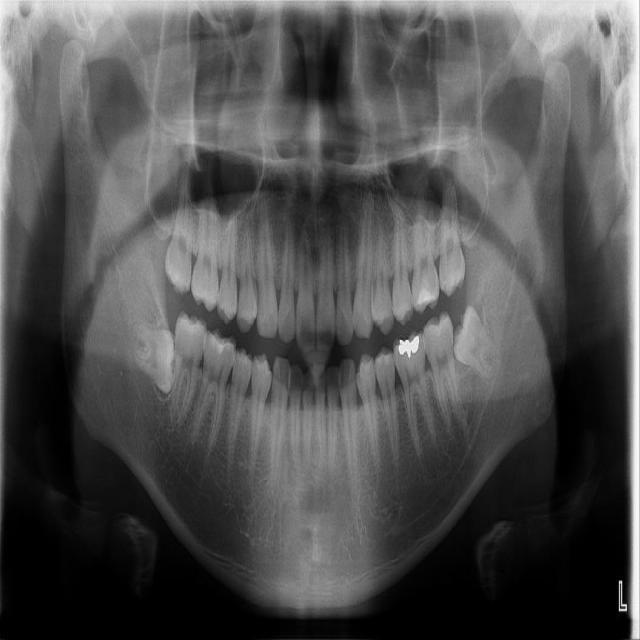52: (390, 327, 430, 382), (410, 263, 441, 316)
73: (617, 586, 625, 594)
BioHorizons Implant: (439, 174, 465, 297)
Biomet 3i Implant: (435, 302, 513, 389)
Blue Sky Bio Implant: (419, 310, 464, 434)
Caries: (163, 180, 197, 295)
Implant: (164, 309, 209, 431)
Keystone Dental Implant: (130, 322, 179, 394)
